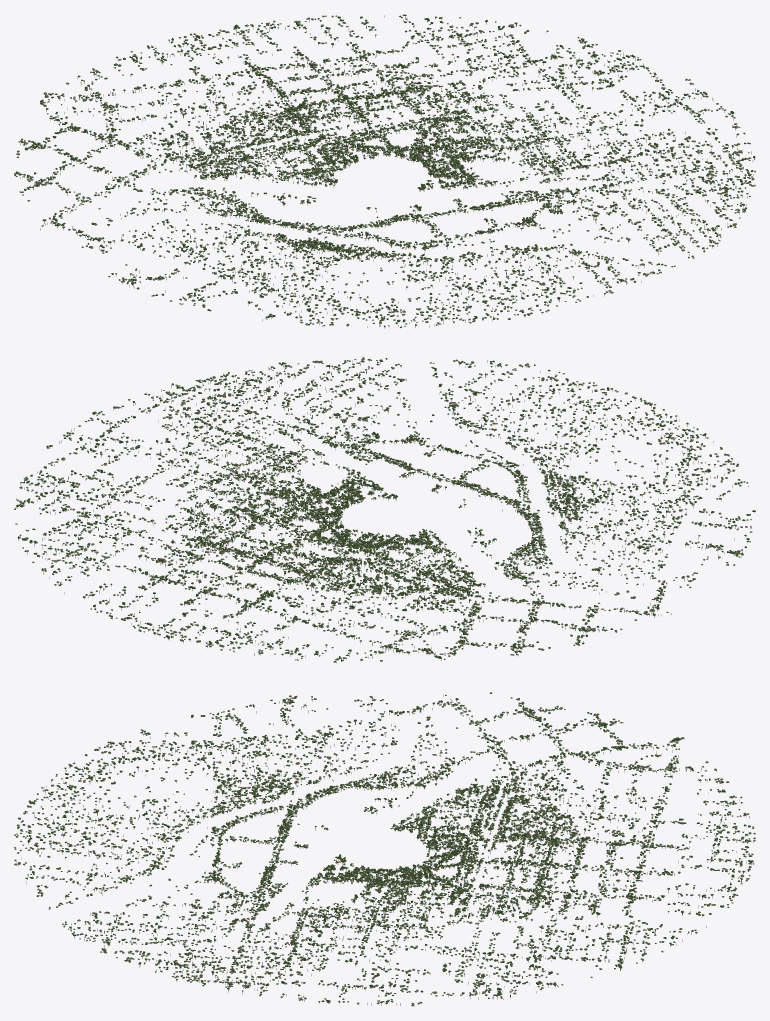
Rendered from mcg_backdrop_part2.glb.
3 views of the same model, one above another, from view 1: azimuth 30°, elevation 25°; view 2: azimuth 150°, elevation 25°; view 3: azimuth 270°, elevation 25° (orthographic).
Visible parts, largest first — view 1: bg_trees_joined_s11, bg_trees_joined_s13, bg_trees_joined_s14, bg_trees_joined_s09, bg_trees_joined_s12, bg_trees_joined_s08, bg_trees_joined_s15, bg_trees_joined_s10, bg_trees_joined_s06, bg_trees_joined_s04, bg_trees_joined_s05, bg_trees_joined_s03 (+4 smaller); view 2: bg_trees_joined_s11, bg_trees_joined_s13, bg_trees_joined_s14, bg_trees_joined_s09, bg_trees_joined_s12, bg_trees_joined_s08, bg_trees_joined_s15, bg_trees_joined_s10, bg_trees_joined_s06, bg_trees_joined_s04, bg_trees_joined_s05, bg_trees_joined_s03 (+4 smaller); view 3: bg_trees_joined_s11, bg_trees_joined_s13, bg_trees_joined_s14, bg_trees_joined_s09, bg_trees_joined_s12, bg_trees_joined_s08, bg_trees_joined_s15, bg_trees_joined_s10, bg_trees_joined_s06, bg_trees_joined_s04, bg_trees_joined_s05, bg_trees_joined_s03 (+4 smaller).
Part boxes in pixels (left/top/right/bottom): bg_trees_joined_s11: left=537, top=93, right=755, bottom=214; bg_trees_joined_s13: left=208, top=14, right=478, bottom=102; bg_trees_joined_s14: left=40, top=33, right=297, bottom=155; bg_trees_joined_s09: left=295, top=239, right=566, bottom=328; bg_trees_joined_s12: left=433, top=20, right=705, bottom=135; bg_trees_joined_s08: left=81, top=209, right=338, bottom=320; bg_trees_joined_s15: left=14, top=128, right=234, bottom=244; bg_trees_joined_s10: left=481, top=195, right=740, bottom=302; bg_trees_joined_s06: left=221, top=103, right=364, bottom=170; bg_trees_joined_s04: left=399, top=98, right=533, bottom=167; bg_trees_joined_s05: left=301, top=95, right=429, bottom=159; bg_trees_joined_s03: left=423, top=135, right=559, bottom=192; bg_trees_joined_s11: left=66, top=362, right=338, bottom=478; bg_trees_joined_s13: left=32, top=530, right=295, bottom=643; bg_trees_joined_s14: left=205, top=573, right=469, bottom=663; bg_trees_joined_s09: left=482, top=378, right=738, bottom=497; bg_trees_joined_s12: left=14, top=434, right=234, bottom=553; bg_trees_joined_s08: left=534, top=476, right=755, bottom=588; bg_trees_joined_s15: left=433, top=551, right=681, bottom=656; bg_trees_joined_s10: left=290, top=357, right=564, bottom=447; bg_trees_joined_s06: left=298, top=531, right=425, bottom=588; bg_trees_joined_s04: left=211, top=477, right=347, bottom=531; bg_trees_joined_s05: left=218, top=520, right=361, bottom=573; bg_trees_joined_s03: left=234, top=445, right=372, bottom=508; bg_trees_joined_s11: left=124, top=903, right=384, bottom=1005; bg_trees_joined_s13: left=511, top=841, right=754, bottom=956; bg_trees_joined_s14: left=508, top=737, right=755, bottom=845; bg_trees_joined_s09: left=14, top=741, right=257, bottom=851; bg_trees_joined_s12: left=384, top=898, right=643, bottom=1006; bg_trees_joined_s08: left=139, top=695, right=384, bottom=800; bg_trees_joined_s15: left=384, top=692, right=623, bottom=797; bg_trees_joined_s10: left=14, top=842, right=259, bottom=958; bg_trees_joined_s06: left=416, top=798, right=558, bottom=852; bg_trees_joined_s04: left=384, top=864, right=505, bottom=922; bg_trees_joined_s05: left=417, top=842, right=557, bottom=899; bg_trees_joined_s03: left=265, top=865, right=384, bottom=923.
Bounding box in the file's own units: 2982 × 114 × 2999.
1 material, 1 textured.
